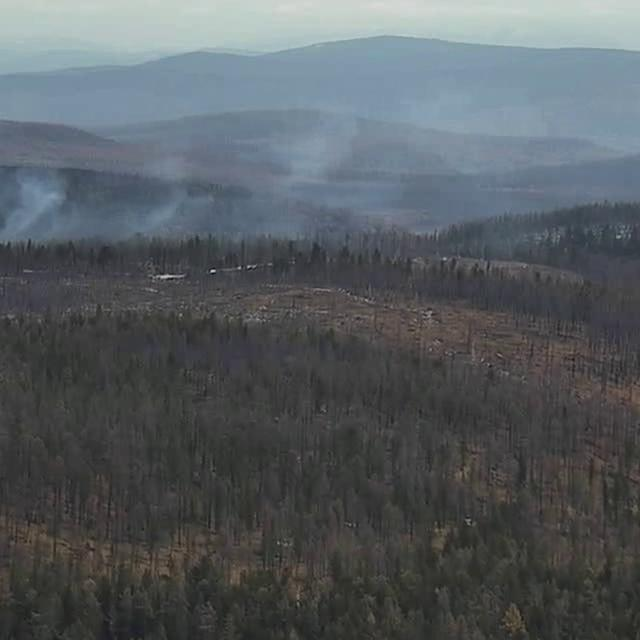Smoke: (1, 61, 553, 274)
